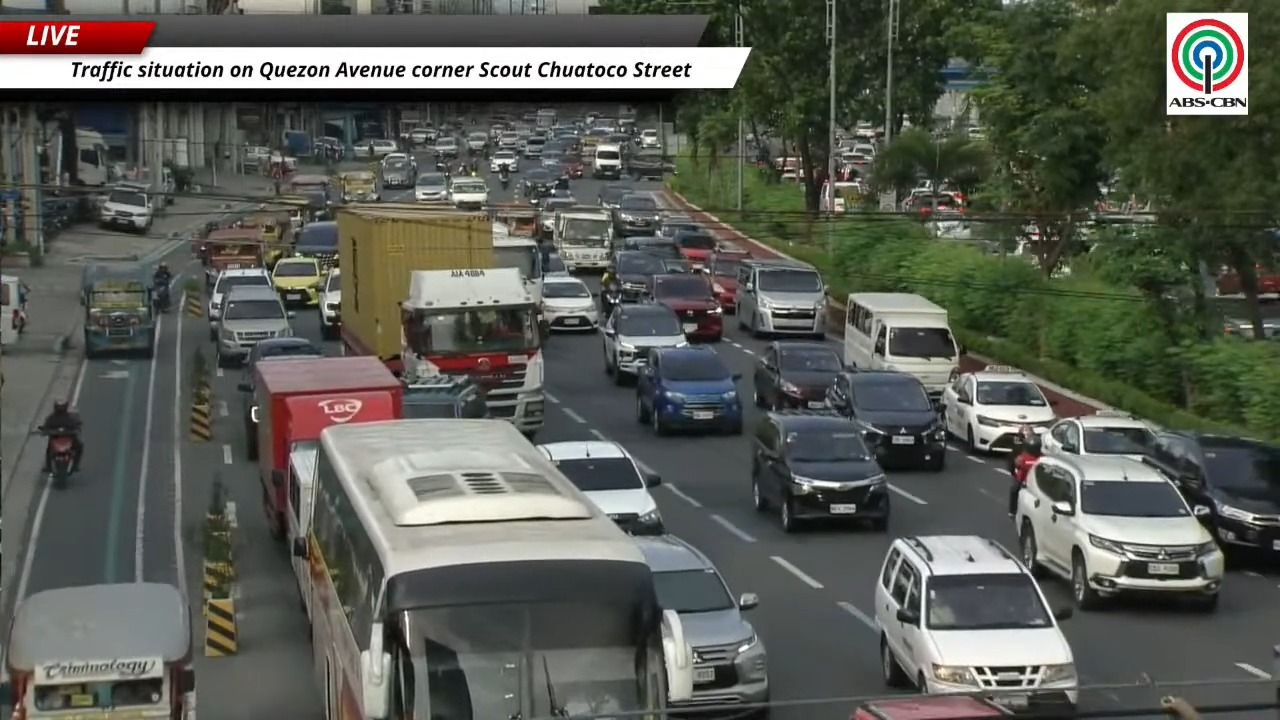bus: (294, 419, 691, 719), (0, 583, 195, 719)
car: (874, 535, 1078, 715), (1015, 456, 1225, 611), (636, 535, 769, 719), (751, 410, 890, 532), (1144, 431, 1279, 556), (827, 370, 946, 471), (537, 440, 663, 534), (239, 336, 322, 459), (941, 366, 1056, 452), (635, 346, 743, 435), (735, 257, 826, 338), (602, 304, 687, 384), (215, 285, 293, 367), (753, 340, 843, 409), (1041, 410, 1154, 459), (648, 273, 722, 342), (206, 267, 271, 340), (601, 251, 665, 313), (849, 695, 1013, 719), (402, 376, 490, 418), (542, 274, 599, 331), (704, 246, 750, 312), (98, 185, 154, 233), (271, 257, 321, 306), (293, 220, 337, 271), (612, 193, 659, 236), (672, 227, 718, 267), (537, 195, 577, 238), (318, 268, 340, 339), (615, 236, 683, 258), (626, 148, 671, 180), (520, 167, 557, 204), (448, 176, 488, 209), (380, 156, 416, 188), (592, 143, 624, 179), (658, 214, 701, 237), (597, 183, 633, 210), (414, 172, 447, 201), (353, 138, 398, 158), (313, 136, 345, 160), (489, 149, 519, 174), (539, 146, 565, 174), (543, 252, 570, 277), (560, 152, 584, 178), (432, 135, 459, 158), (408, 126, 436, 145), (523, 136, 545, 158), (662, 258, 693, 273), (380, 152, 415, 165), (467, 132, 488, 152), (497, 131, 519, 150), (639, 129, 660, 148)
motorcycle: (39, 427, 74, 488), (152, 280, 170, 313), (499, 167, 509, 189), (435, 160, 447, 172)
truck: (240, 356, 401, 538), (336, 205, 493, 373), (399, 268, 544, 436), (490, 206, 543, 304), (40, 122, 111, 187), (553, 206, 612, 272)
